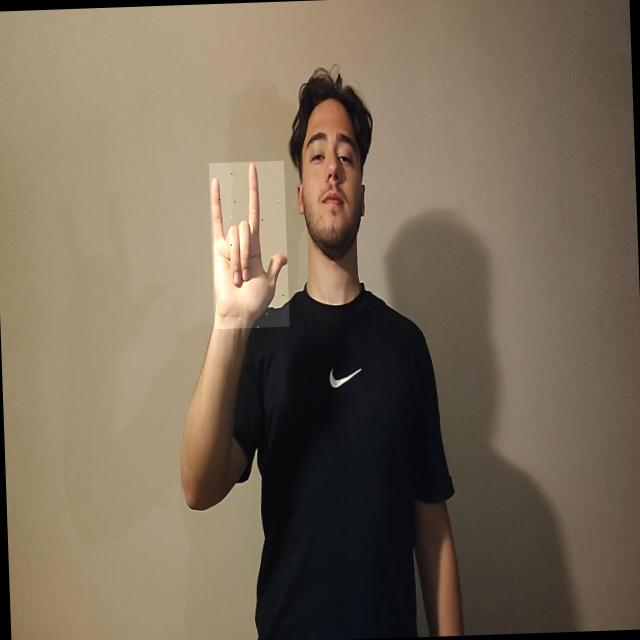iloveyou: (208, 160, 290, 329)
